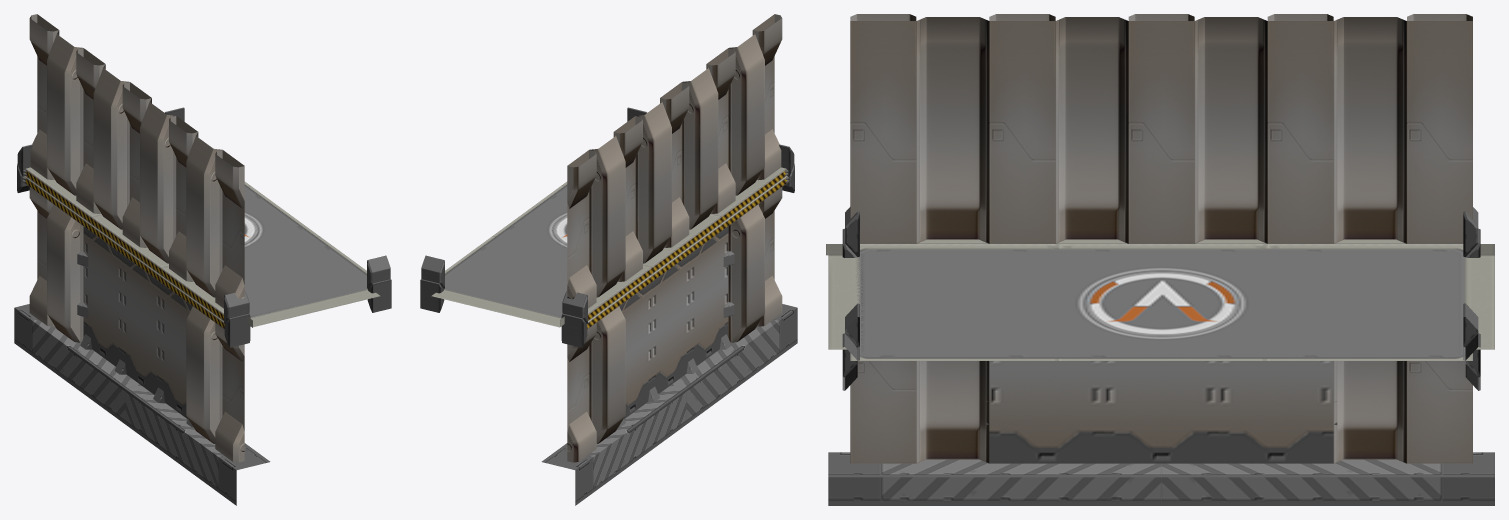
Rendered from JIJIAKU_6_1.FBX.
The picture shows the model from 3 angles, left to right: view 1: azimuth 30°, elevation 25°; view 2: azimuth 150°, elevation 25°; view 3: azimuth 270°, elevation 25°; orthographic projection. The views are drawn at different scales.
Visible parts, largest first — view 1: BC_384, BC_380, BC_361, BC_362, BC_364, BC_363, BC_414, BC_001, BC_391, BC_390, BC_398, BC_397 (+26 smaller); view 2: BC_384, BC_364, BC_363, BC_361, BC_362, BC_414, BC_413, BC_390, BC_391, BC_397, BC_398, BC_001 (+26 smaller); view 3: BC_384, BC_364, BC_363, BC_362, BC_361, BC_376, BC_377, BC_378, BC_379, BC_375, BC_413, BC_414 (+13 smaller).
Boxes of the visible parts, box(x1,y1,x2,y2) form: BC_384: box(24, 176, 380, 328); BC_380: box(25, 167, 377, 326); BC_361: box(47, 30, 83, 195); BC_362: box(93, 64, 129, 229); BC_364: box(186, 132, 222, 297); BC_363: box(140, 98, 176, 263); BC_414: box(122, 254, 159, 394); BC_001: box(83, 226, 121, 366); BC_391: box(47, 204, 83, 342); BC_390: box(186, 306, 222, 443); BC_398: box(14, 308, 125, 424); BC_397: box(125, 389, 236, 505); BC_384: box(431, 176, 787, 328); BC_364: box(728, 30, 764, 195); BC_363: box(682, 64, 718, 229); BC_361: box(589, 132, 625, 297); BC_362: box(635, 98, 671, 263); BC_414: box(652, 254, 689, 393); BC_413: box(690, 226, 728, 365); BC_390: box(728, 204, 764, 342); BC_391: box(589, 306, 625, 443); BC_397: box(686, 308, 797, 424); BC_398: box(575, 389, 686, 505); BC_001: box(619, 282, 651, 419); BC_384: box(828, 244, 1494, 360); BC_364: box(916, 17, 989, 243); BC_363: box(1055, 17, 1128, 243); BC_362: box(1194, 17, 1267, 243); BC_361: box(1333, 17, 1406, 243); BC_376: box(1267, 21, 1333, 243); BC_377: box(1128, 21, 1194, 243); BC_378: box(989, 21, 1055, 243); BC_379: box(850, 21, 916, 243); BC_375: box(1407, 21, 1472, 243); BC_413: box(989, 361, 1104, 463); BC_414: box(1104, 361, 1218, 463).
Bounding box in the file's own units: 32.7 × 63.59 × 77.69.
